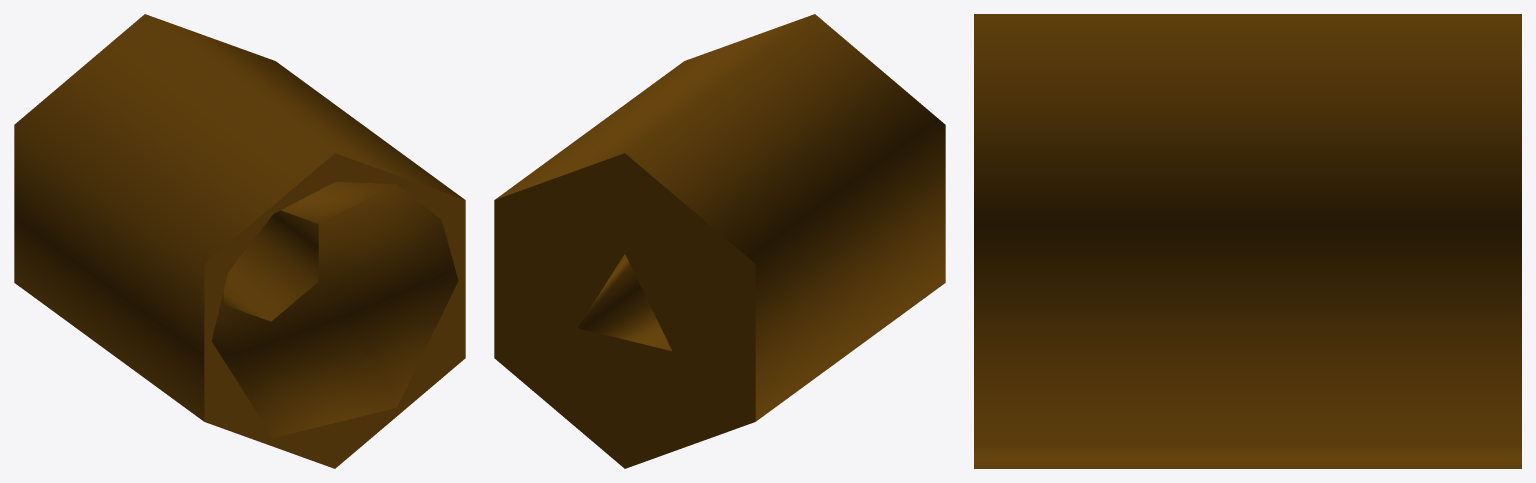
The model's file is Pallier (5.5_2)_instance_1.obj.
3 renders of one model, left to right at view 1: azimuth 30°, elevation 25°; view 2: azimuth 150°, elevation 25°; view 3: azimuth 270°, elevation 25°, orthographic. The views are drawn at different scales.
Parts seen in each view (by area): view 1: Face_4, Face_2, Face_3, Face_5; view 2: Face_4, Face_1, Face_5; view 3: Face_4.
Boxes of the visible parts, x1,y1,x2,y2 form: Face_4: [14, 14, 464, 421]; Face_2: [211, 182, 458, 437]; Face_3: [204, 153, 465, 468]; Face_5: [223, 210, 318, 321]; Face_4: [495, 14, 945, 421]; Face_1: [494, 153, 755, 468]; Face_5: [577, 254, 671, 350]; Face_4: [974, 14, 1521, 468].
Size of the model in its own units: 0.00476 by 0.0055 by 0.006.
